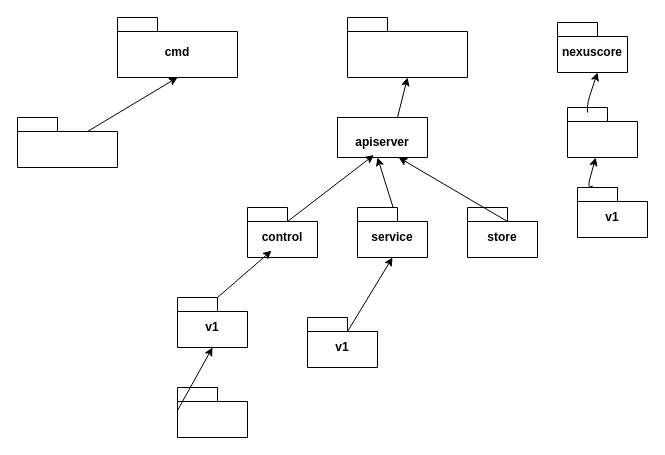
The diagram is 665 pixels wide and 455 high, and some of its shapes have lost their labels. Here are the shapes that lost their labels. From the top down, the box of each, then its label:
(346, 16, 468, 78): internal
(16, 116, 118, 168): iam-apiserver
(566, 106, 638, 158): api
(176, 386, 248, 438): user
